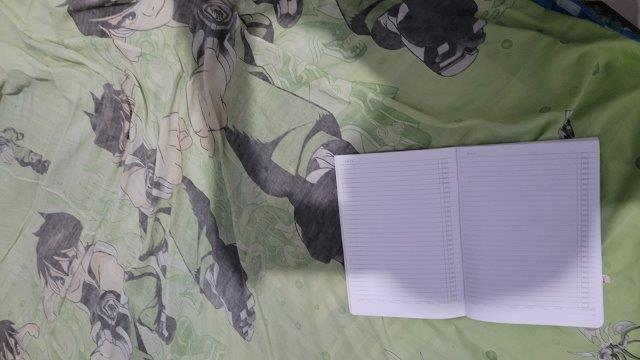kertas: (334, 138, 604, 328)
